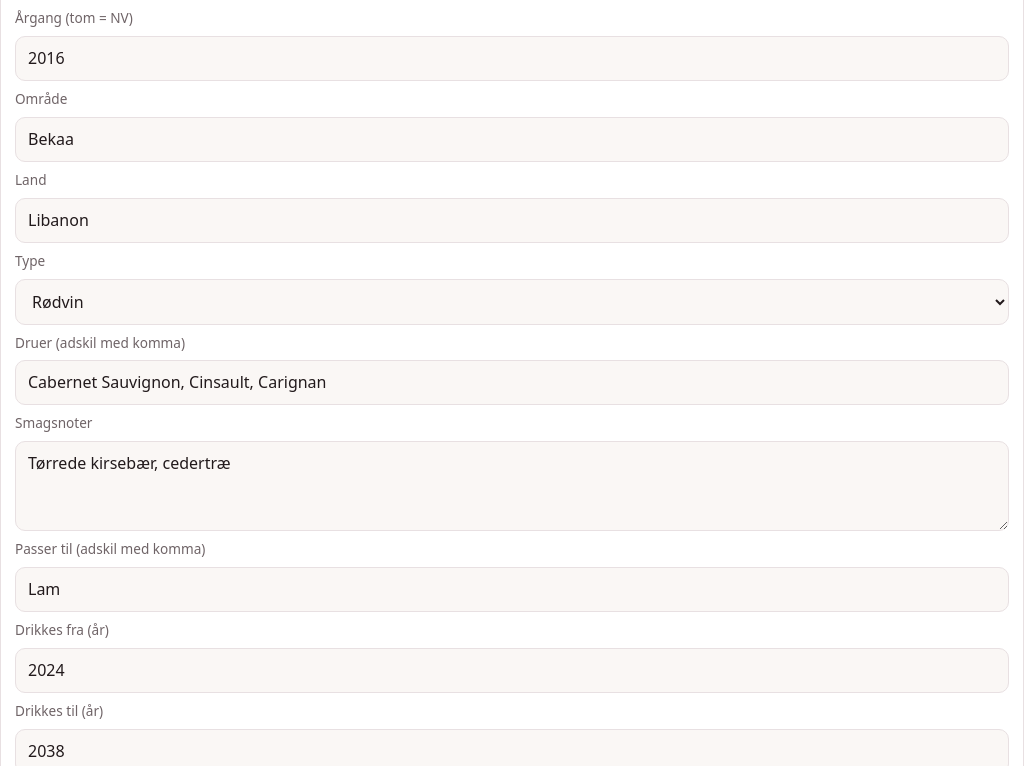
changing vintage then Gem triggers lookup, shows updated form, second Gem saves
The width and height of the screenshot is (1024, 766).
Earlier steps of the test are not shown.
(page scrolled)
Replace the text in the field labelled "Druer (adskil med komma)" with "Syrah": (512, 383) 15,360 -> 1009,405
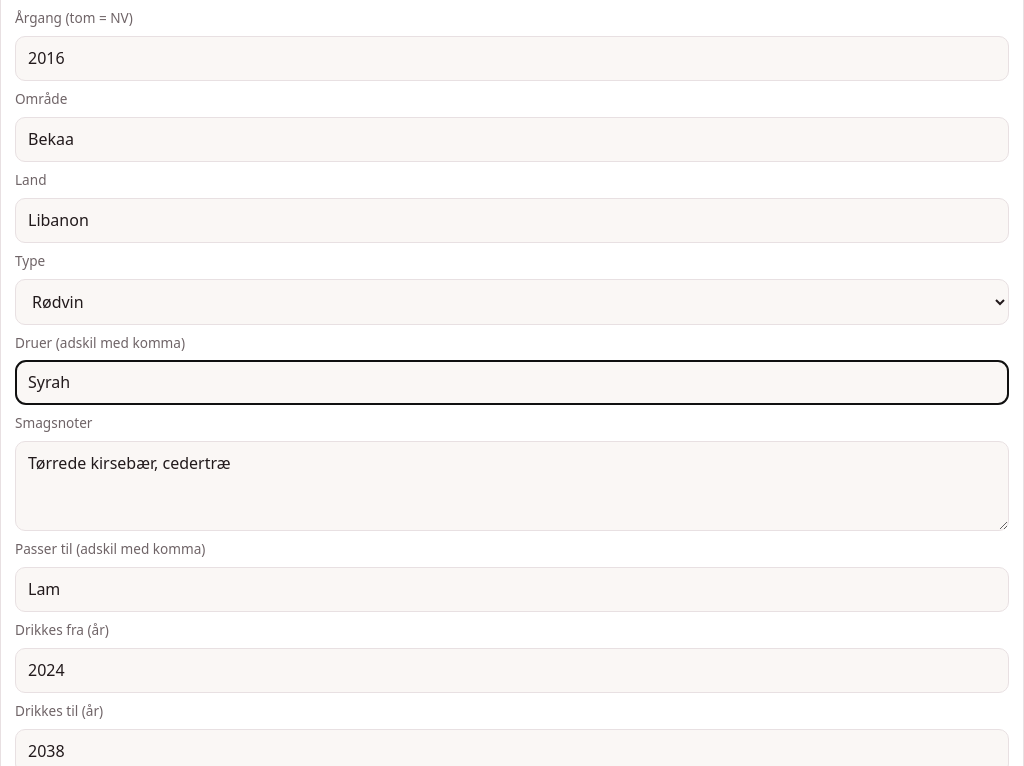
Replace the text in the field labelled "Årgang (tom = NV)" with "2019": (512, 58) 15,36 -> 1009,81
(page scrolled)
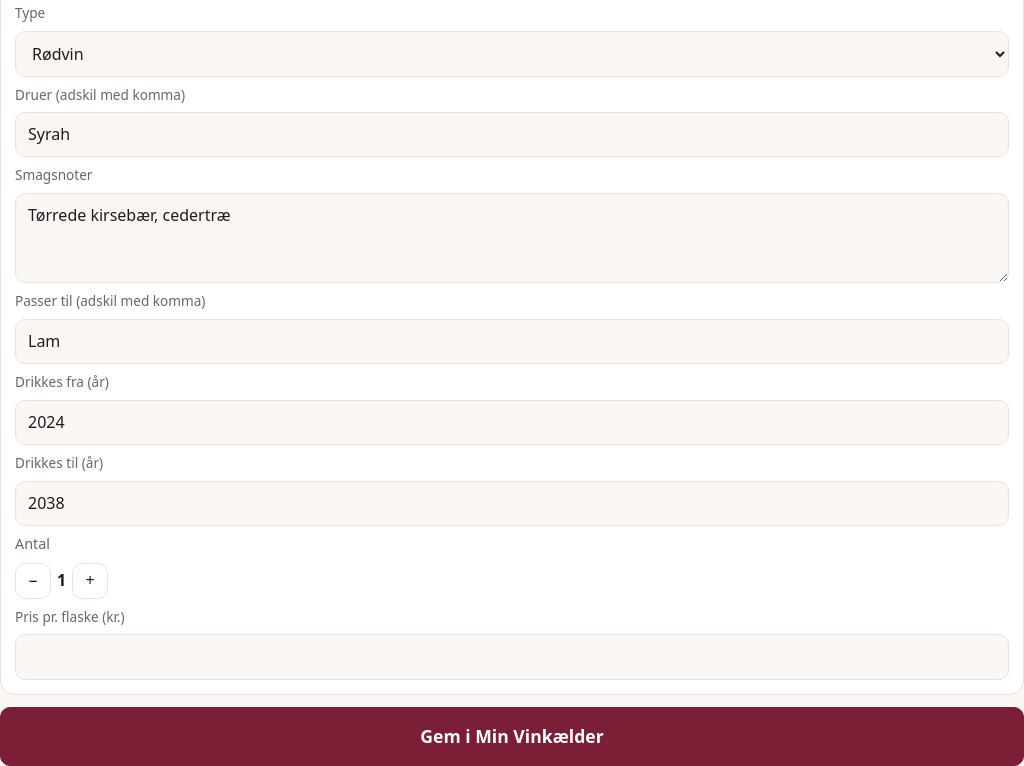
Click the button "Gem i Min Vinkælder": (512, 736) 0,707 -> 1023,765
(page scrolled)
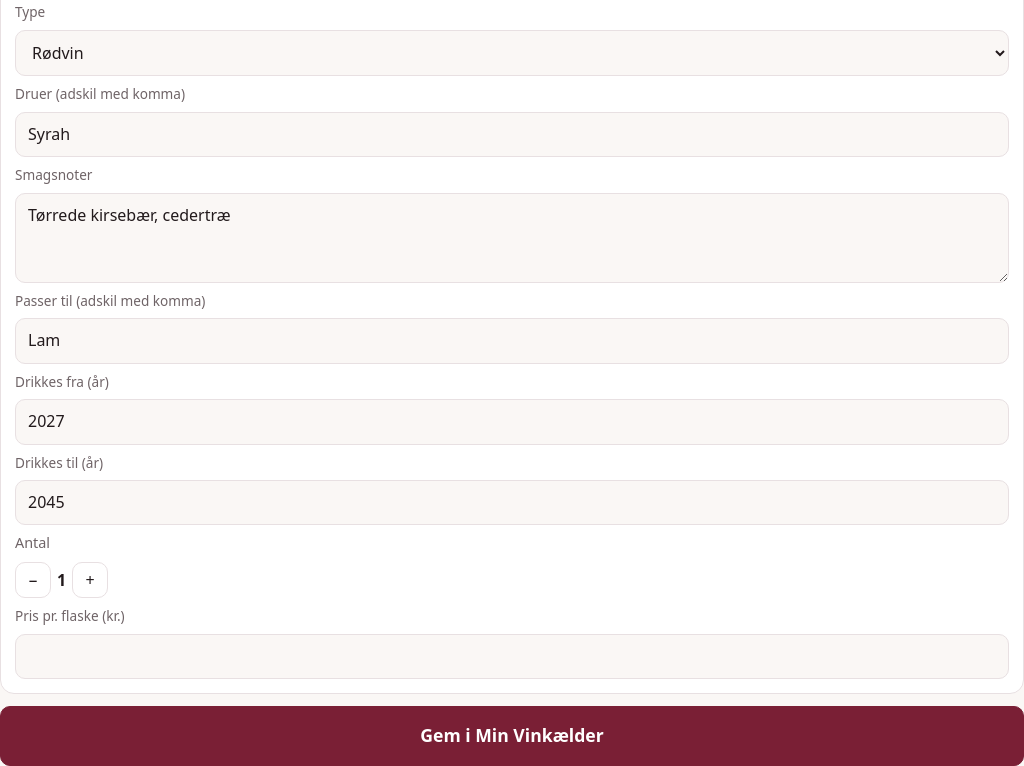
Now the field labelled "Druer (adskil med komma)" holds "Syrah", box 15,112 -> 1009,157
Now the field labelled "Drikkes til (år)" holds "2045", box 15,480 -> 1009,526
Click the button "Gem i Min Vinkælder": (512, 736) 0,706 -> 1023,765
(page scrolled)
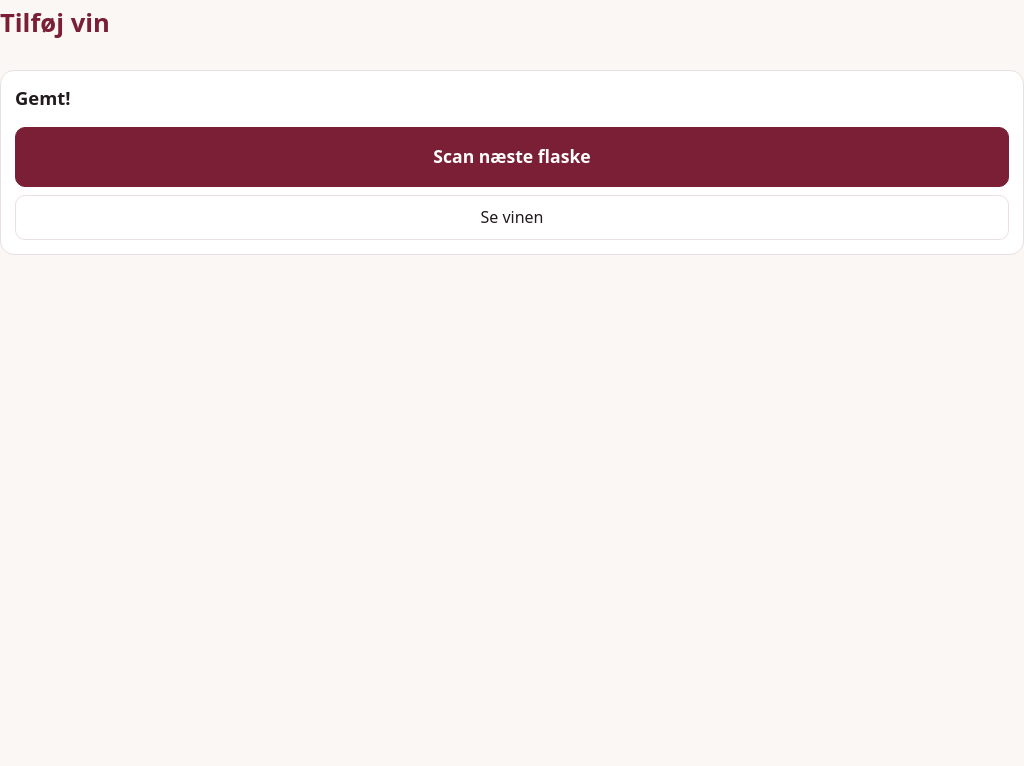
Now the heading "Gemt!" is shown, box 15,84 -> 70,110
